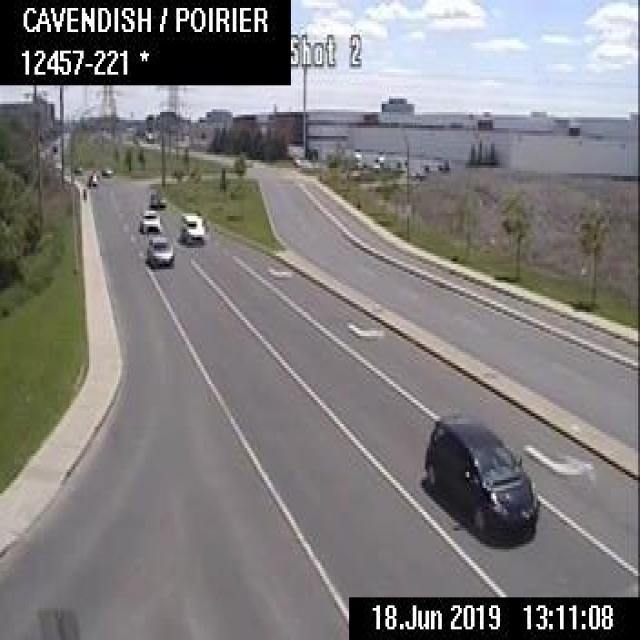pedestrian: (81, 185, 86, 200)
vehicle: (424, 413, 538, 542), (145, 234, 172, 265), (179, 209, 204, 242), (141, 208, 161, 231), (150, 184, 166, 206), (101, 165, 112, 175)
